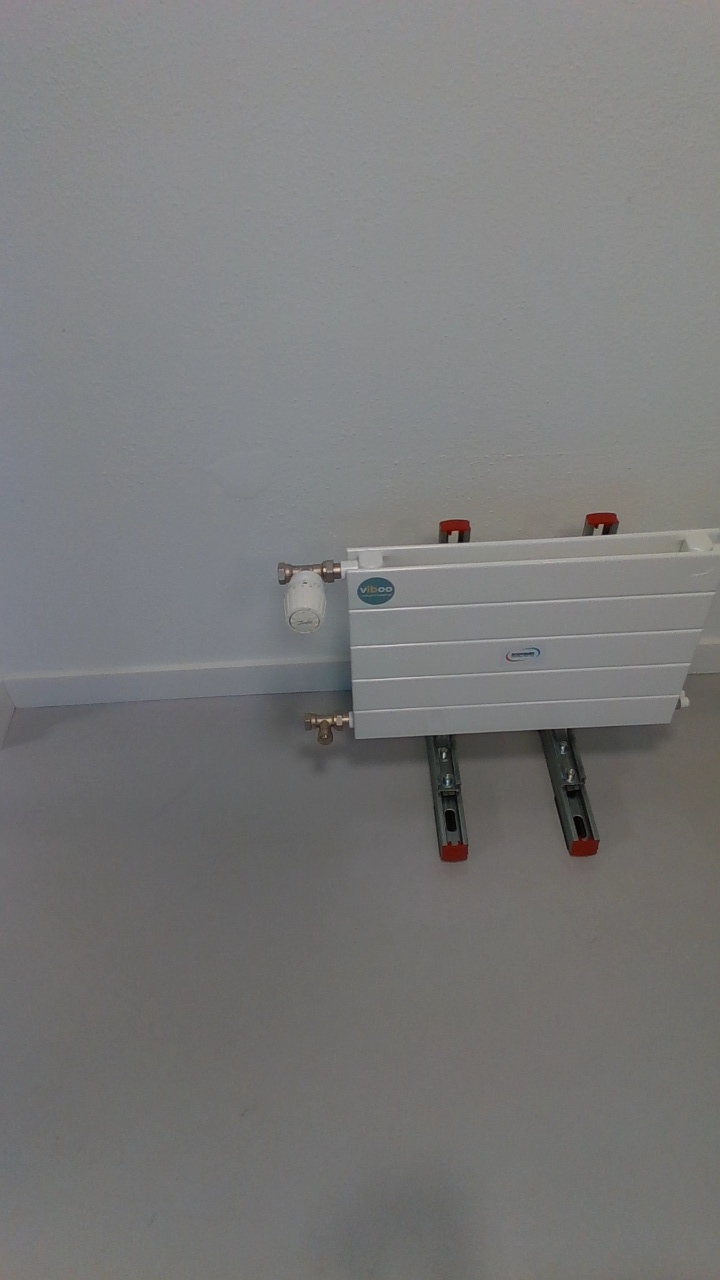Knob_Radiator: (273, 561, 338, 647)
Radiator: (318, 518, 718, 760)
